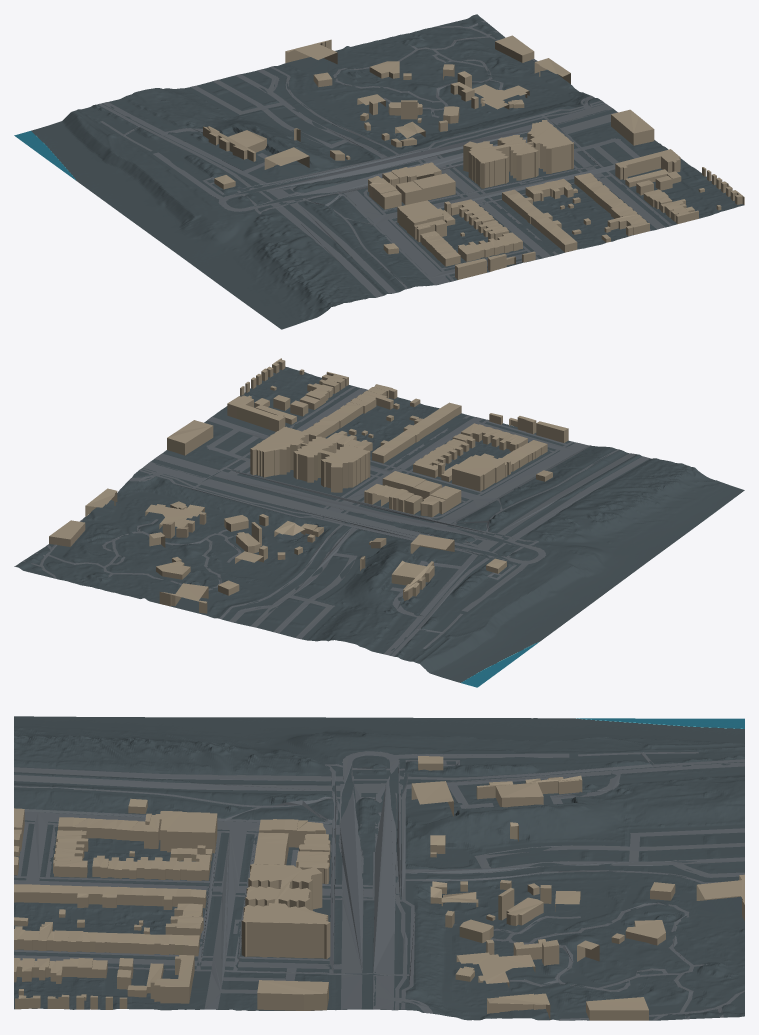
Rendered from epsg26910-1415-10876.lod0.glb.
The picture shows the model from 3 angles, top to bottom: view 1: azimuth 30°, elevation 25°; view 2: azimuth 150°, elevation 25°; view 3: azimuth 270°, elevation 25°; orthographic projection. The views are drawn at different scales.
Parts seen in each view (by area): view 1: epsg26910-1415-10876-lod0; view 2: epsg26910-1415-10876-lod0; view 3: epsg26910-1415-10876-lod0.
Part boxes in pixels (left/top/right/bottom): epsg26910-1415-10876-lod0: left=14, top=14, right=744, bottom=329; epsg26910-1415-10876-lod0: left=14, top=358, right=744, bottom=687; epsg26910-1415-10876-lod0: left=14, top=716, right=744, bottom=1020.
Bounding box in the file's own units: 384 × 27.56 × 384.
